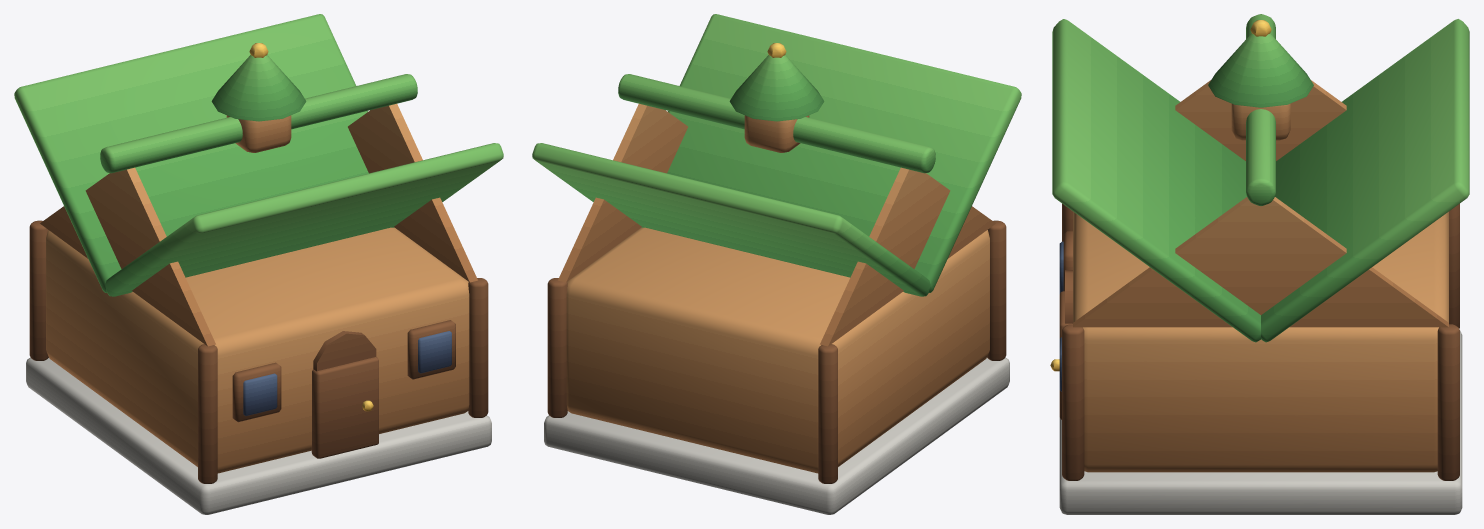
The model's file is hallG.glb.
3 views of the same model, side by side, from view 1: azimuth 30°, elevation 25°; view 2: azimuth 150°, elevation 25°; view 3: azimuth 270°, elevation 25° (orthographic). The views are drawn at different scales.
Visible parts, largest first — view 1: hallG; view 2: hallG; view 3: hallG.
Boxes of the visible parts, x1=… form: hallG: x1=14, y1=14, x2=503, y2=514; hallG: x1=532, y1=14, x2=1021, y2=514; hallG: x1=1050, y1=14, x2=1469, y2=514.
Size of the model in its own units: 1.48 by 1.72 by 1.56.
Materials: 1 (1 with a texture image).
